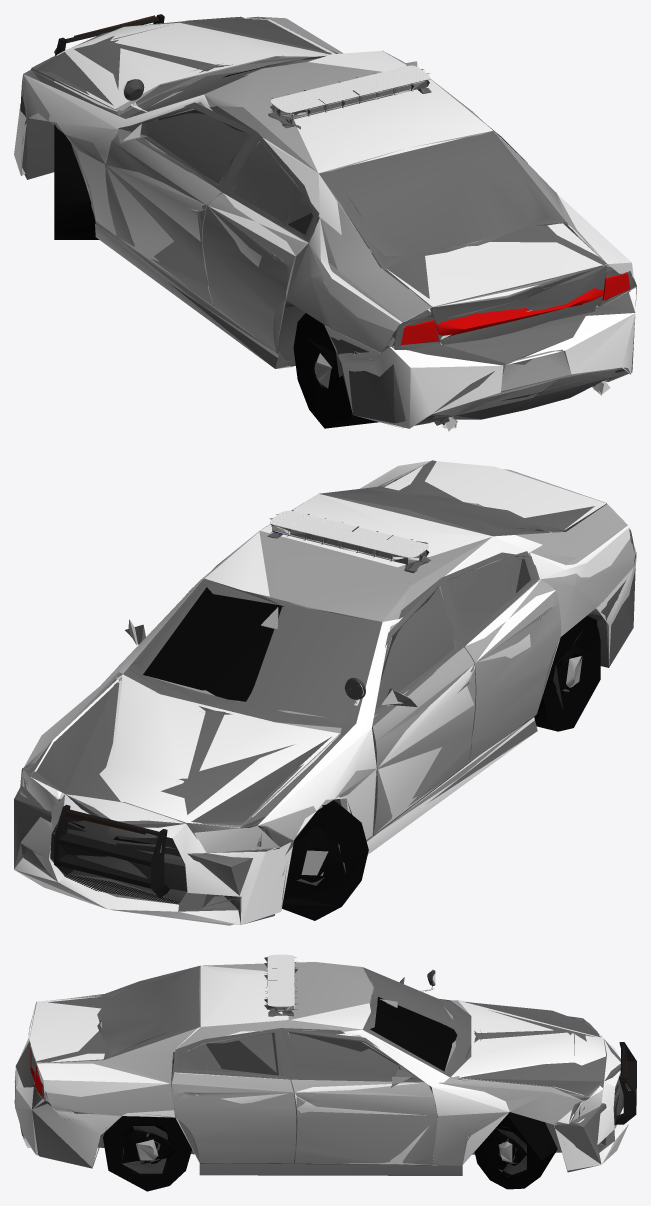
File: charger_lod1.glb
3 views of the same model, one above another, from view 1: azimuth 30°, elevation 25°; view 2: azimuth 150°, elevation 25°; view 3: azimuth 270°, elevation 25° (orthographic). The views are drawn at different scales.
Visible parts, largest first — view 1: Material2 (×3), Material3 (×9); view 2: Material2 (×3), Material3 (×14); view 3: Material2 (×4), Material3 (×11).
Part boxes in pixels (<box>): Material2 (×3): <box>14,16,636,428</box>; Material3 (×9): <box>20,14,636,428</box>; Material2 (×3): <box>14,461,636,925</box>; Material3 (×14): <box>14,460,635,924</box>; Material2 (×4): <box>14,962,628,1176</box>; Material3 (×11): <box>16,954,636,1191</box>.
Bounding box in the file's own units: 2.1 × 1.53 × 5.07.
45 materials, 6 textured.
